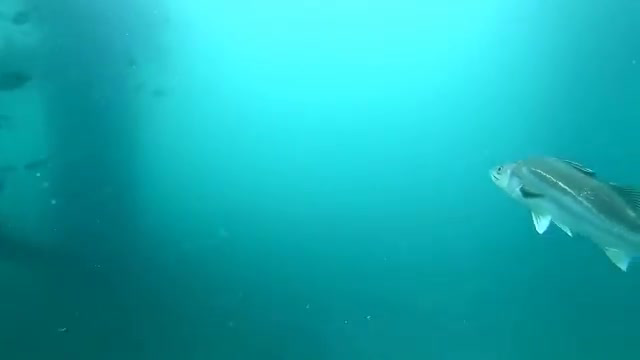suzuki: (483, 144, 638, 272)
